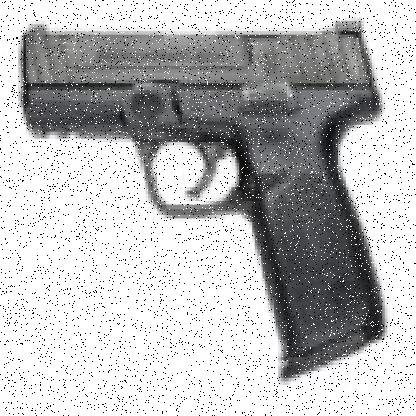pistol: (16, 10, 385, 381)
